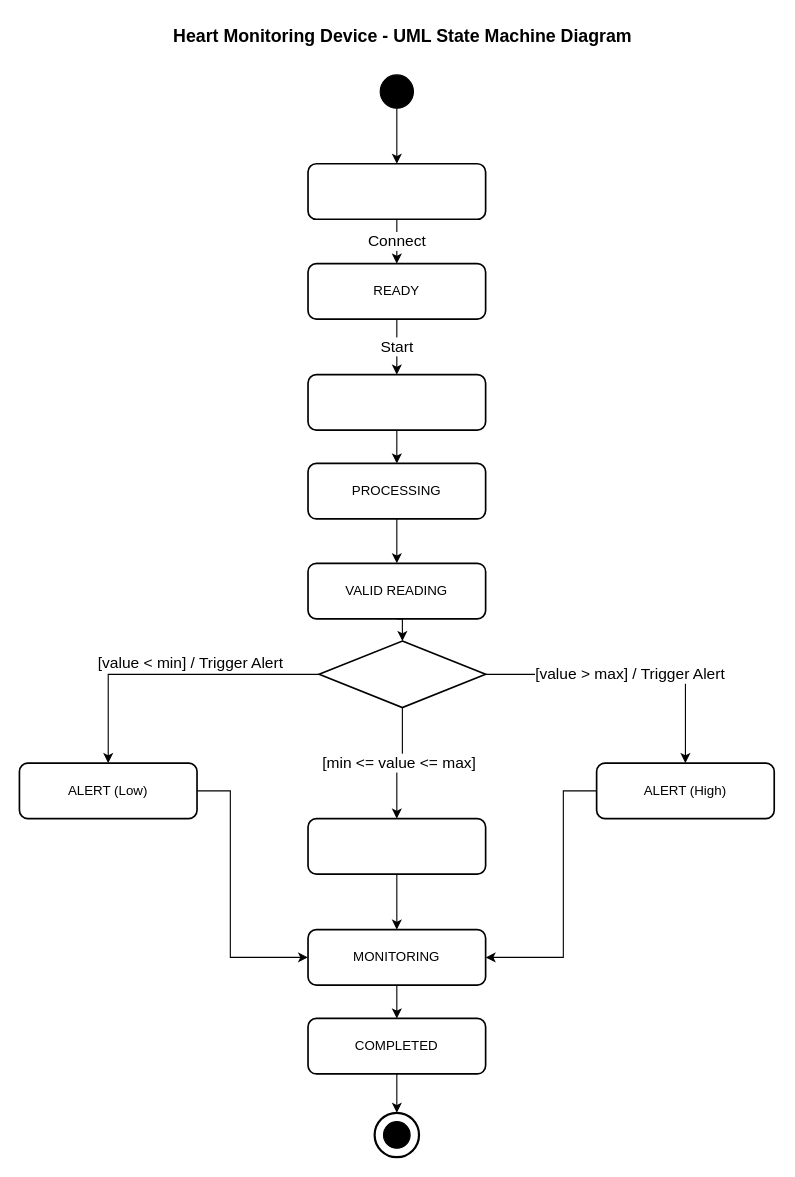
Some shapes in this 795 by 1177 pixel diagram are drawn without their labels. Here are the shapes that lost their labels. From the top down, the centre of each, then its label:
At point 396,191: "OFFLINE".
At point 396,401: "MEASURING".
At point 402,674: "Threshold Check".
At point 396,845: "OK (Normal)".
